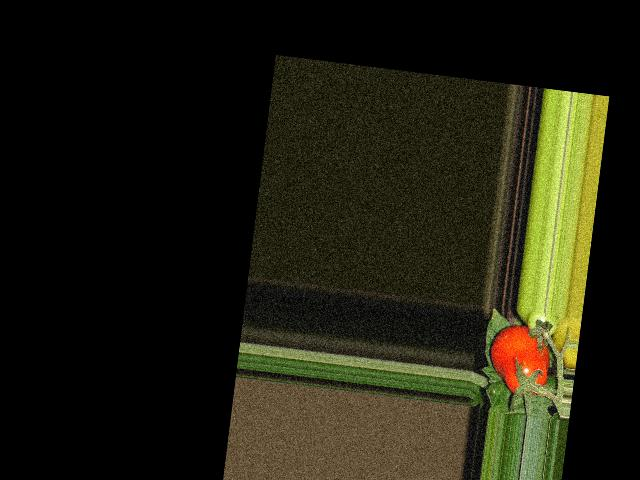tomato: (485, 322, 553, 398)
